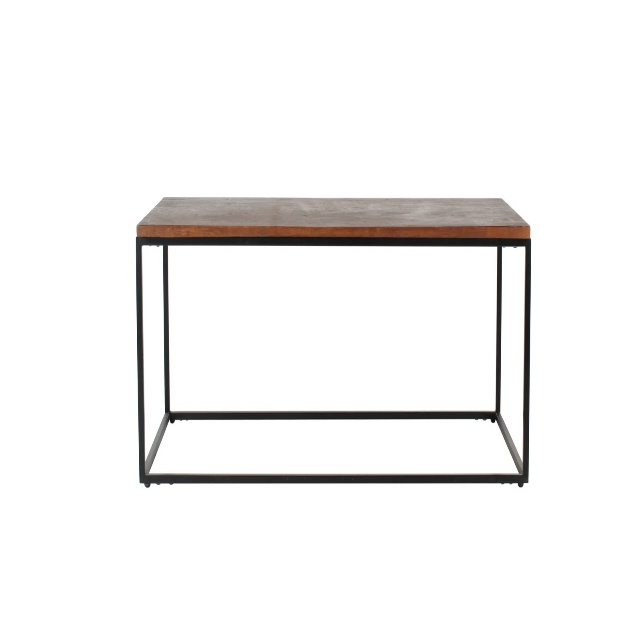obstacle: (136, 198, 531, 486)
